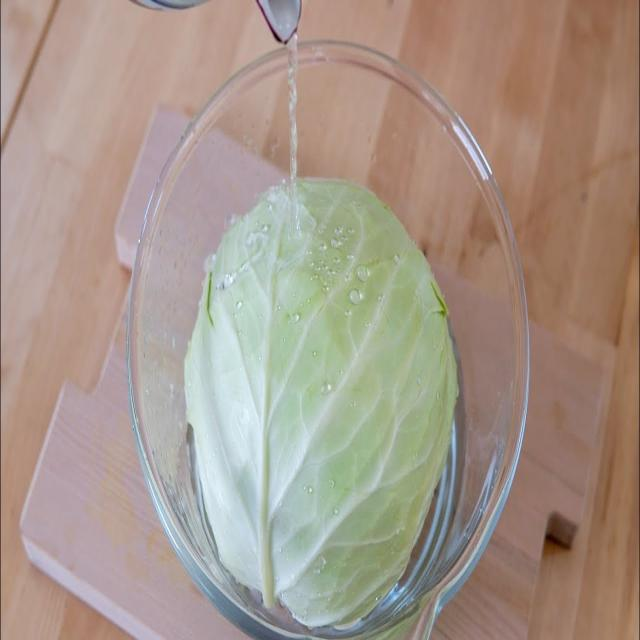cabbage: (183, 171, 462, 628)
